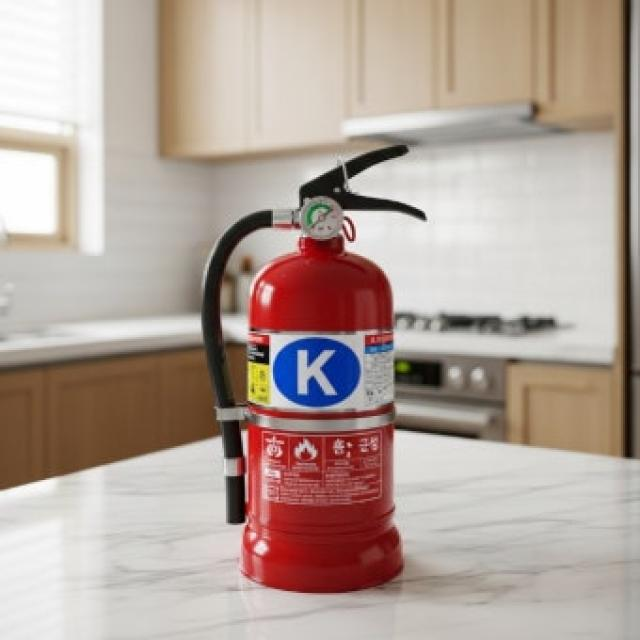pressure gauge: (300, 196, 342, 240)
